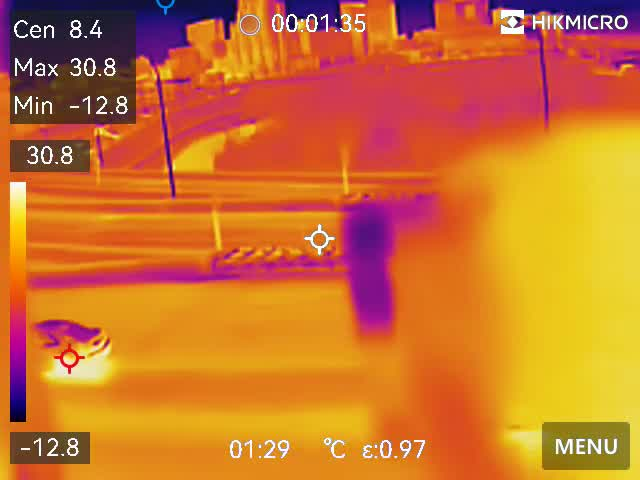smallCar: (25, 316, 118, 368)
